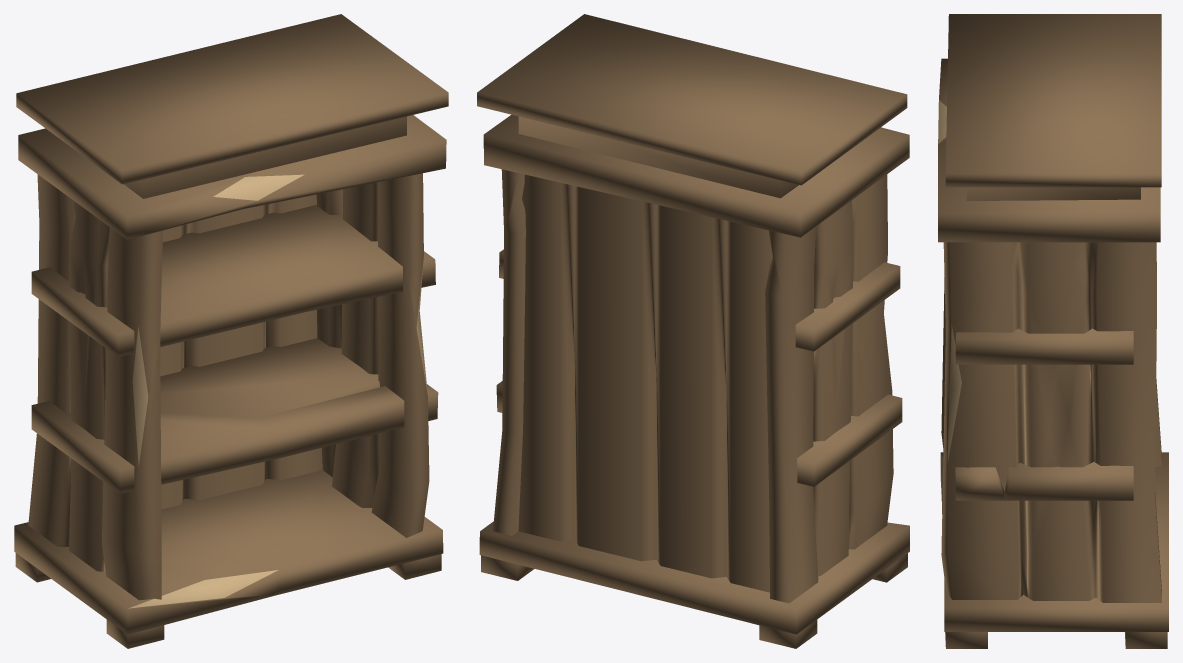
File: rpgpp_ag_shelf_wood_07b.fbx
The picture shows the model from 3 angles, left to right: view 1: azimuth 30°, elevation 25°; view 2: azimuth 150°, elevation 25°; view 3: azimuth 270°, elevation 25°; orthographic projection.
Parts seen in each view (by area): view 1: rpgpp_ag_shelf_wood_07b; view 2: rpgpp_ag_shelf_wood_07b; view 3: rpgpp_ag_shelf_wood_07b.
Part boxes in pixels (box(x1,y1,x2,y2)): rpgpp_ag_shelf_wood_07b: box(14, 14, 448, 648); rpgpp_ag_shelf_wood_07b: box(477, 14, 909, 648); rpgpp_ag_shelf_wood_07b: box(938, 14, 1168, 648).
Bounding box in the file's own units: 1.15 × 1.62 × 0.7061.
